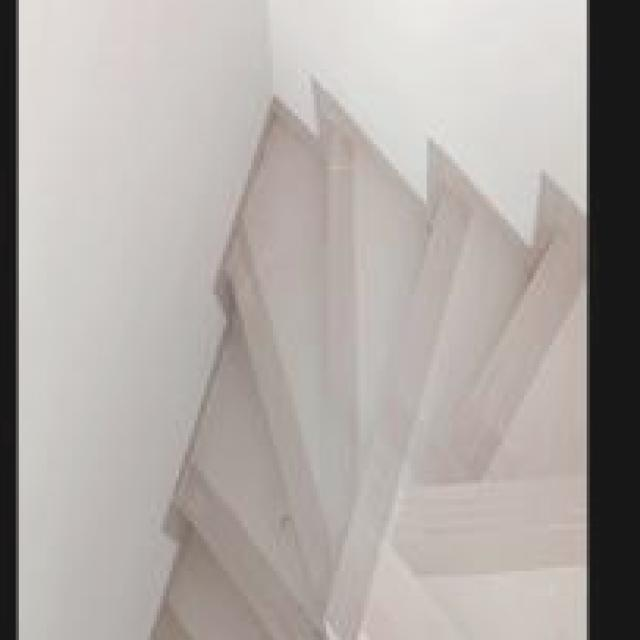downstair: (211, 167, 597, 640)
